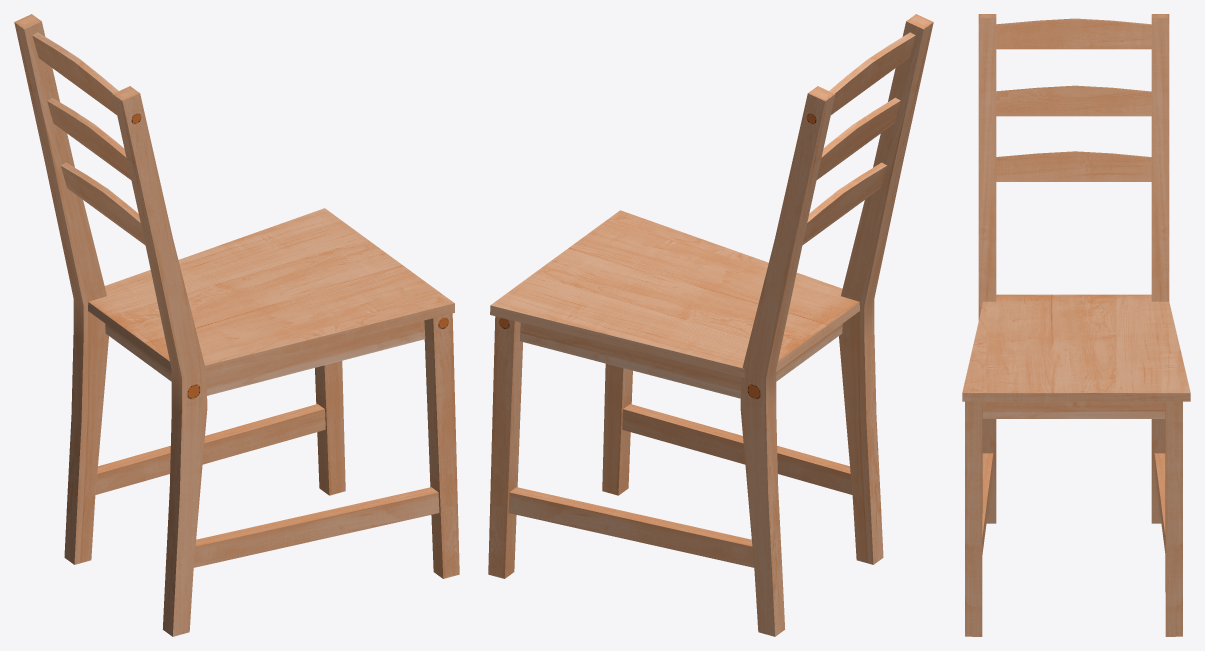
3 renders of one model, left to right at view 1: azimuth 30°, elevation 25°; view 2: azimuth 150°, elevation 25°; view 3: azimuth 270°, elevation 25°, orthographic. The views are drawn at different scales.
Visible parts, largest first — view 1: chair; view 2: chair; view 3: chair.
Part boxes in pixels (x1,y1,x2,y2): chair: [14, 14, 459, 636]; chair: [488, 14, 933, 636]; chair: [962, 14, 1190, 636].
Size of the model in its own units: 2.98 by 4.78 by 2.04.
Materials: 1 (1 with a texture image).
